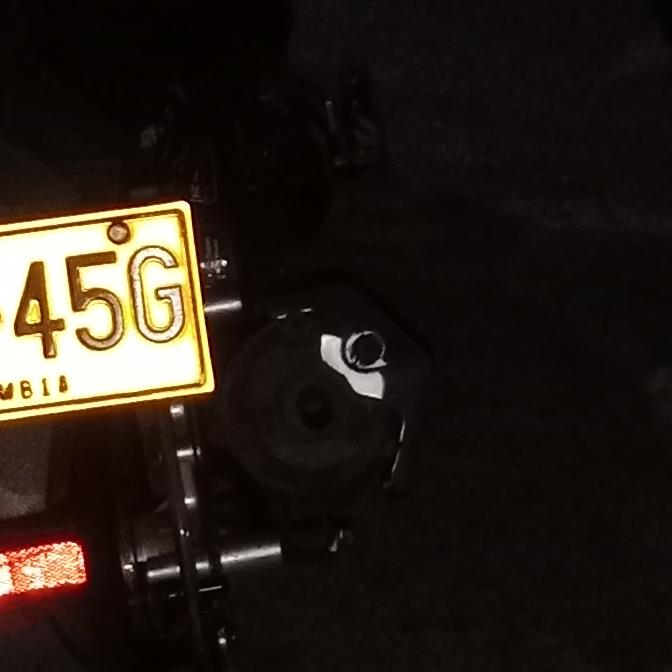plates: (0, 188, 224, 424)
